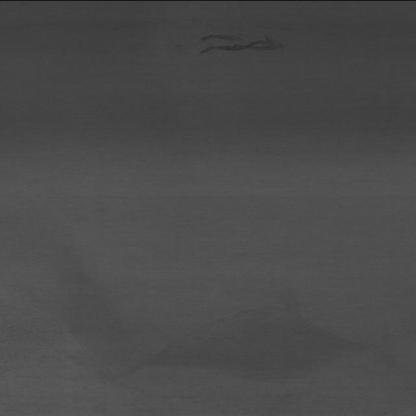water_spot: (182, 26, 298, 58)
